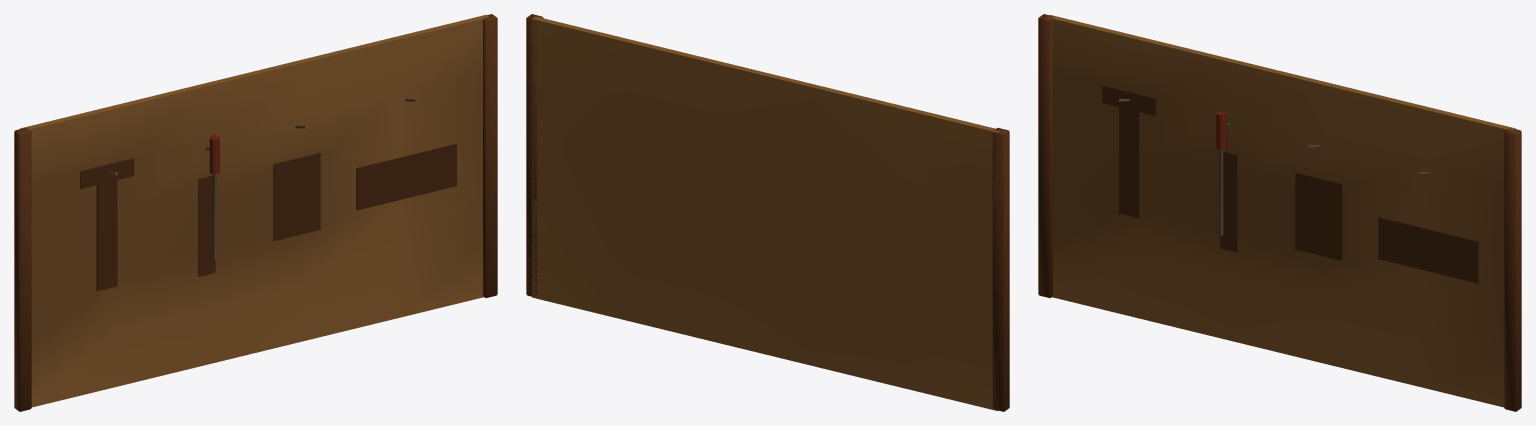
Rendered from tablero_herramientas.glb.
3 renders of one model, left to right at view 1: azimuth 30°, elevation 25°; view 2: azimuth 150°, elevation 25°; view 3: azimuth 330°, elevation 25°, orthographic.
Parts seen in each view (by area): view 1: tablero; view 2: tablero; view 3: tablero.
Boxes of the visible parts, x1=… form: tablero: x1=14, y1=14, x2=497, y2=411; tablero: x1=526, y1=14, x2=1009, y2=411; tablero: x1=1038, y1=14, x2=1521, y2=411.
Bounding box in the file's own units: 1.44 × 0.8 × 0.074.
